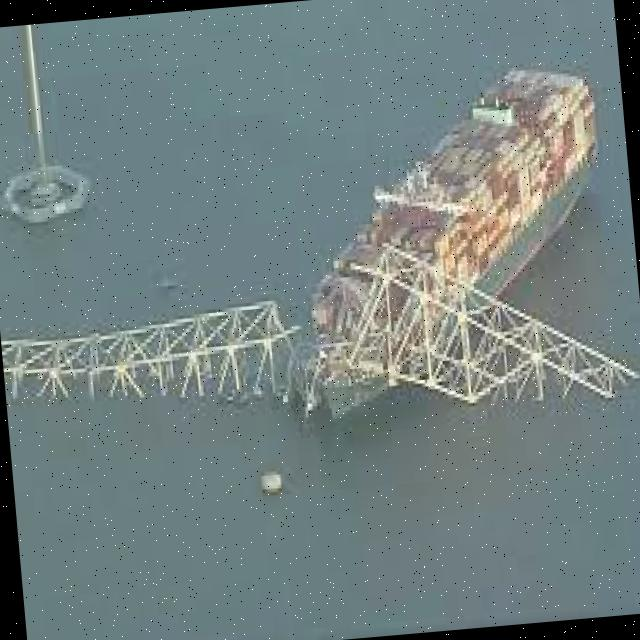bridge collapse: (185, 162, 558, 490)
